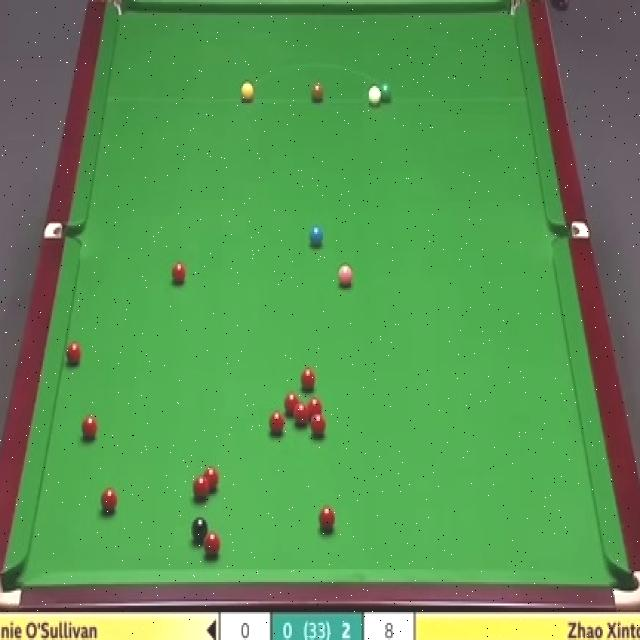black-ball: (192, 516, 210, 540)
blue-ball: (309, 223, 324, 250)
brown-ball: (310, 81, 324, 102)
green-ball: (378, 82, 392, 102)
pink-ball: (337, 266, 354, 290)
red-ball: (317, 502, 336, 534), (64, 340, 84, 369), (97, 486, 117, 513), (78, 412, 97, 440), (283, 389, 301, 416), (298, 367, 318, 391), (192, 474, 210, 500), (307, 398, 324, 423), (205, 467, 222, 491), (206, 532, 220, 559), (269, 408, 284, 433), (293, 404, 310, 426), (311, 412, 325, 434), (171, 264, 187, 283)
white-ball: (367, 84, 380, 106)
yellow-ball: (240, 81, 254, 102)
